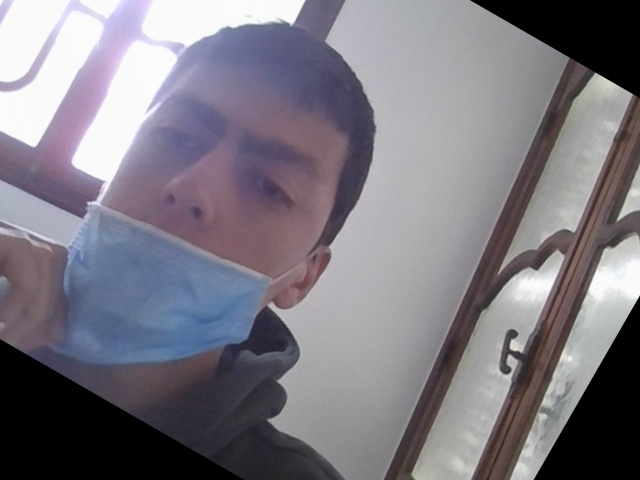mask_weared_incorrect: (53, 44, 341, 360)
